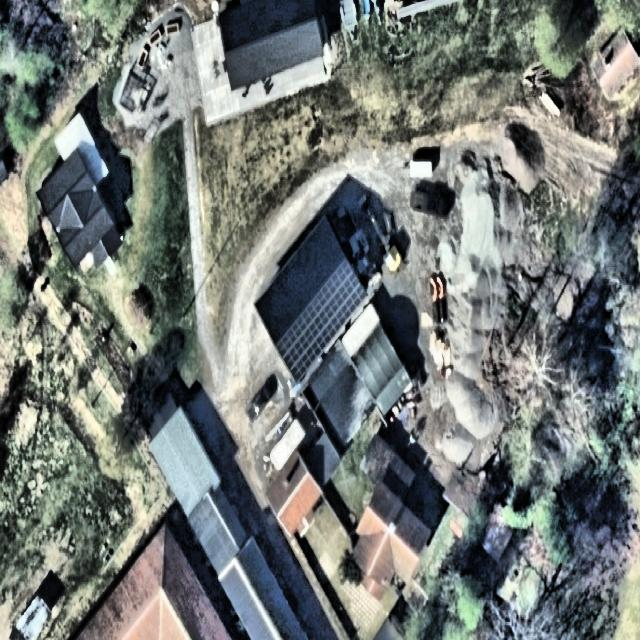roof_pv: (275, 300, 315, 385), (316, 264, 344, 352), (344, 256, 367, 324)
